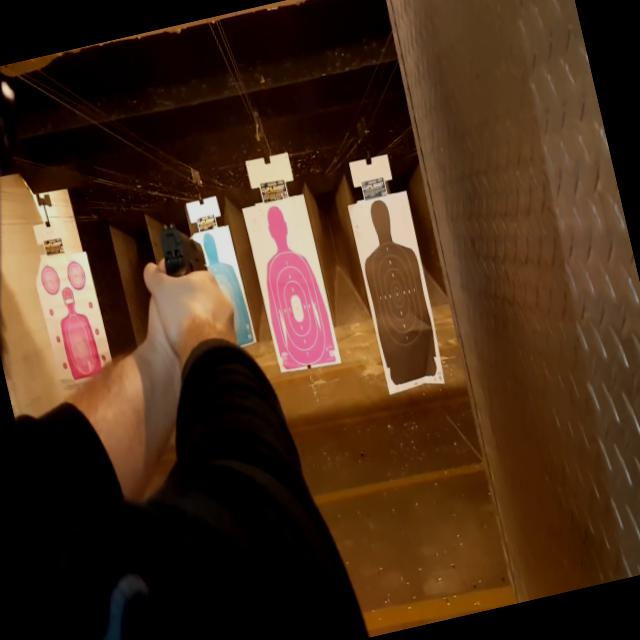handgun: (143, 199, 240, 354)
